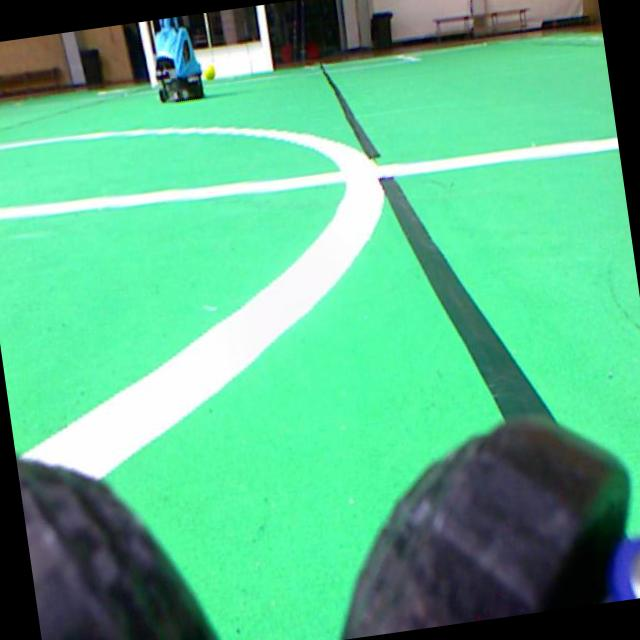ball: (203, 65, 214, 80)
goal: (138, 21, 157, 86), (256, 5, 275, 70)
